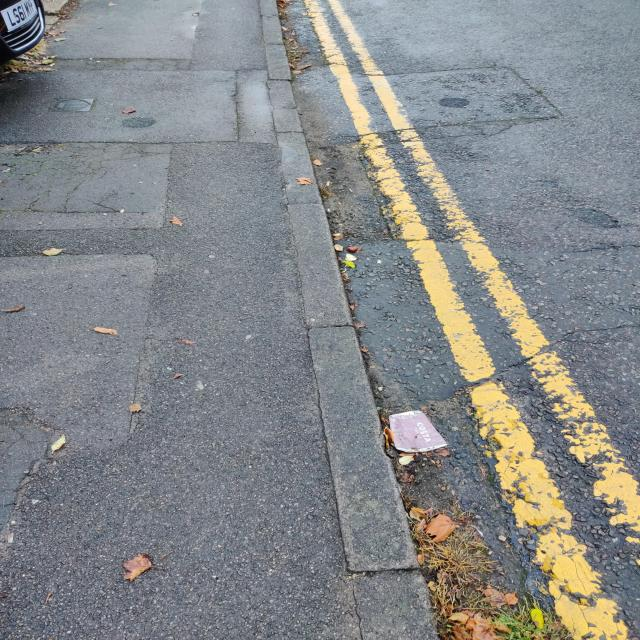litter: (387, 408, 447, 455)
